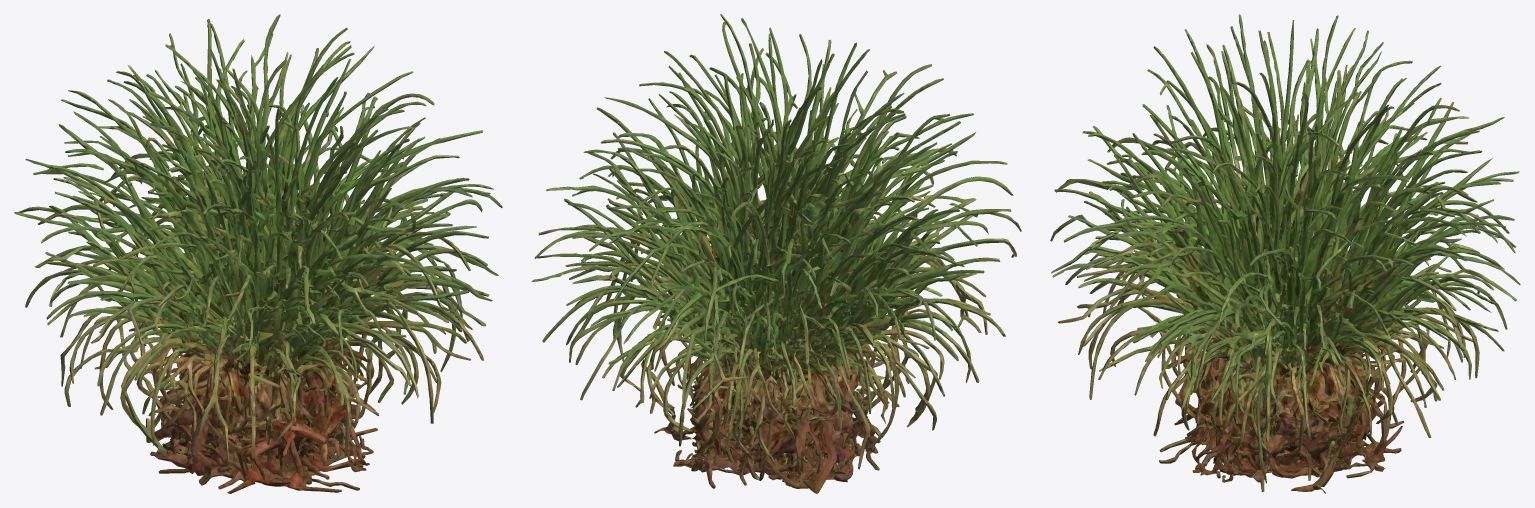
The model's file is sedge-tuft-v12-lod.glb.
The picture shows the model from 3 angles, left to right: view 1: azimuth 30°, elevation 25°; view 2: azimuth 150°, elevation 25°; view 3: azimuth 270°, elevation 25°; orthographic projection.
Parts seen in each view (by area): view 1: geometry_0; view 2: geometry_0; view 3: geometry_0.
Part boxes in pixels (x1=…): geometry_0: x1=14, y1=14, x2=502, y2=493; geometry_0: x1=531, y1=14, x2=1021, y2=493; geometry_0: x1=1050, y1=14, x2=1520, y2=493.
Size of the model in its own units: 0.722 by 0.7 by 0.7276.
1 material, 1 textured.
